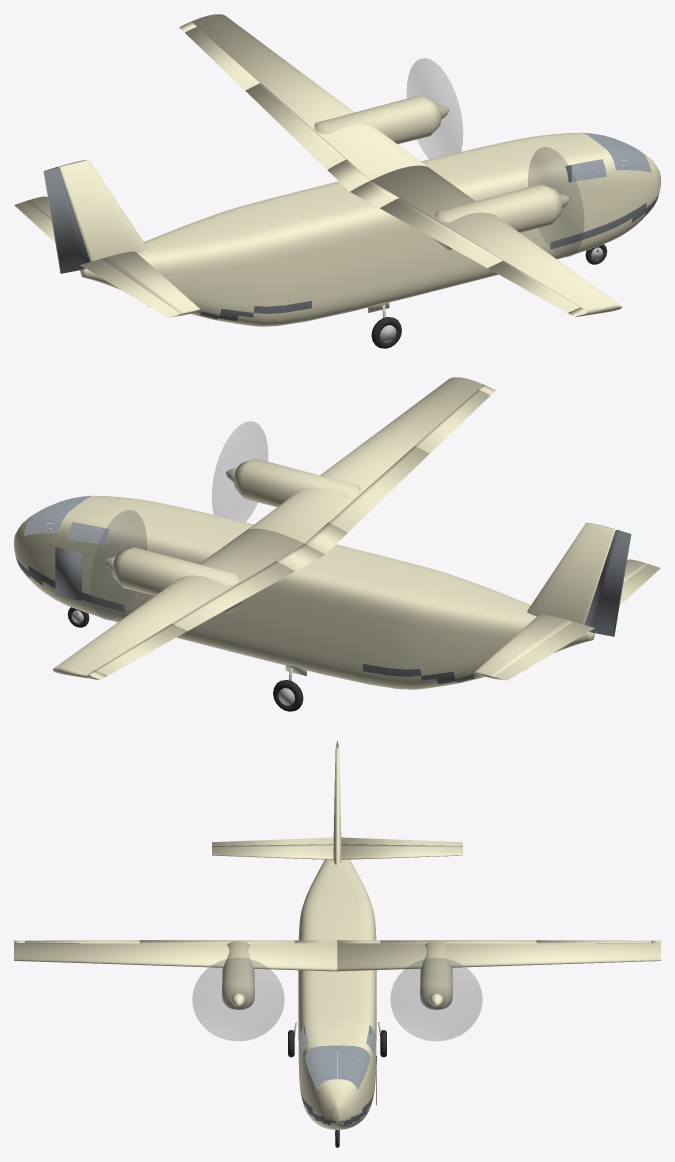
File: haulmaster_lod0.glb
3 views of the same model, one above another, from view 1: azimuth 30°, elevation 25°; view 2: azimuth 150°, elevation 25°; view 3: azimuth 270°, elevation 25° (orthographic). The views are drawn at different scales.
Parts seen in each view (by area): view 1: fuselage, wing_L, wing_R, fin, prop_2_disc, nacelle_2, nacelle_1, prop_1_disc, rudder, stabilizer, flap_L_1, flap_R_1 (+5 smaller); view 2: fuselage, wing_R, wing_L, fin, prop_1_disc, nacelle_1, nacelle_2, prop_2_disc, rudder, stabilizer, flap_R_1, flap_L_1 (+6 smaller); view 3: fuselage, wing_L, wing_R, prop_1_disc, prop_2_disc, stabilizer, glass, nacelle_1, nacelle_2, elevator, fin.
Part boxes in pixels (x1,y1,x2,y2): fuselage: (80, 132, 660, 326); wing_L: (179, 14, 427, 191); wing_R: (350, 165, 621, 317); fin: (58, 160, 147, 261); prop_2_disc: (528, 147, 584, 256); nacelle_2: (432, 184, 562, 250); nacelle_1: (314, 95, 441, 144); prop_1_disc: (407, 58, 462, 158); rudder: (43, 167, 90, 273); stabilizer: (27, 196, 200, 315); flap_L_1: (245, 83, 345, 169); flap_R_1: (380, 198, 502, 268); fuselage: (14, 495, 594, 689); wing_R: (247, 377, 495, 554); wing_L: (53, 528, 324, 680); fin: (527, 523, 616, 624); prop_1_disc: (90, 510, 146, 619); nacelle_1: (112, 547, 242, 613); nacelle_2: (233, 458, 360, 507); prop_2_disc: (212, 421, 267, 521); rudder: (584, 530, 631, 636); stabilizer: (474, 559, 647, 678); flap_R_1: (329, 446, 429, 532); flap_L_1: (172, 561, 294, 631); fuselage: (298, 859, 376, 1129); wing_L: (337, 940, 660, 971); wing_R: (14, 940, 337, 971); prop_1_disc: (390, 958, 482, 1040); prop_2_disc: (192, 958, 284, 1040); stabilizer: (212, 844, 462, 859); glass: (299, 1025, 375, 1089); nacelle_1: (420, 941, 452, 1009); nacelle_2: (222, 941, 254, 1009); elevator: (212, 837, 462, 845); fin: (333, 746, 341, 865).
Size of the model in its own units: 17.6 by 6.36 by 19.6.
